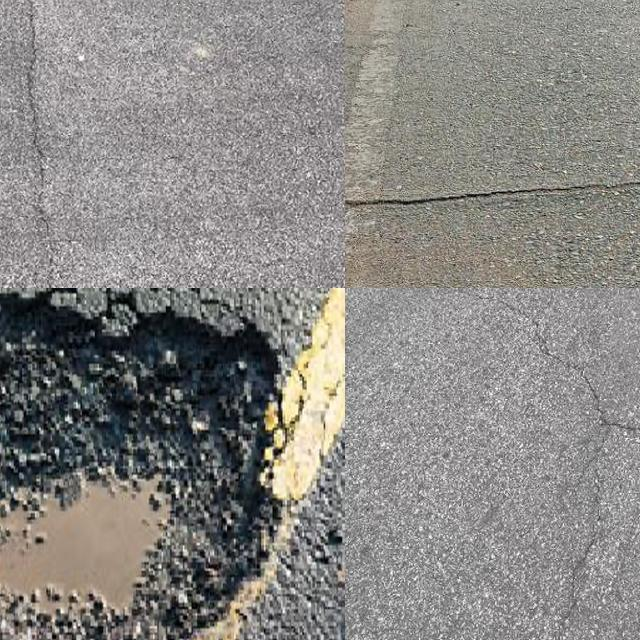Lubang: (0, 289, 264, 640)
Melintang: (477, 288, 640, 447), (345, 166, 640, 237)
Memanjang: (5, 0, 71, 288)
